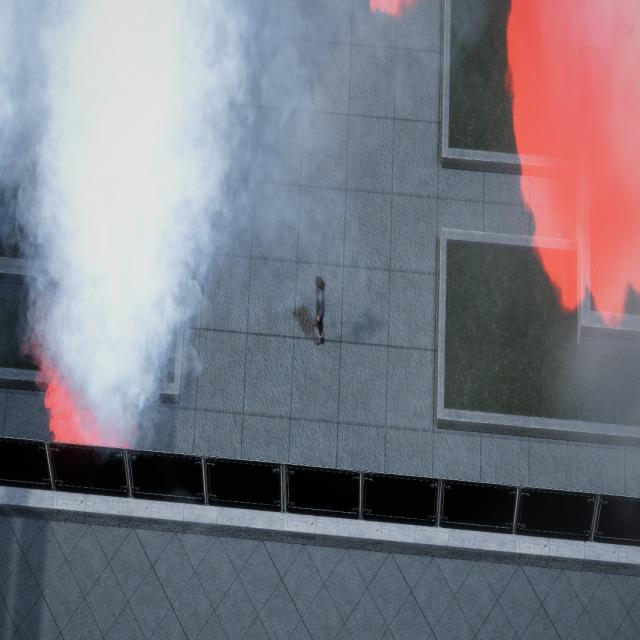Human: (304, 268, 336, 356)
